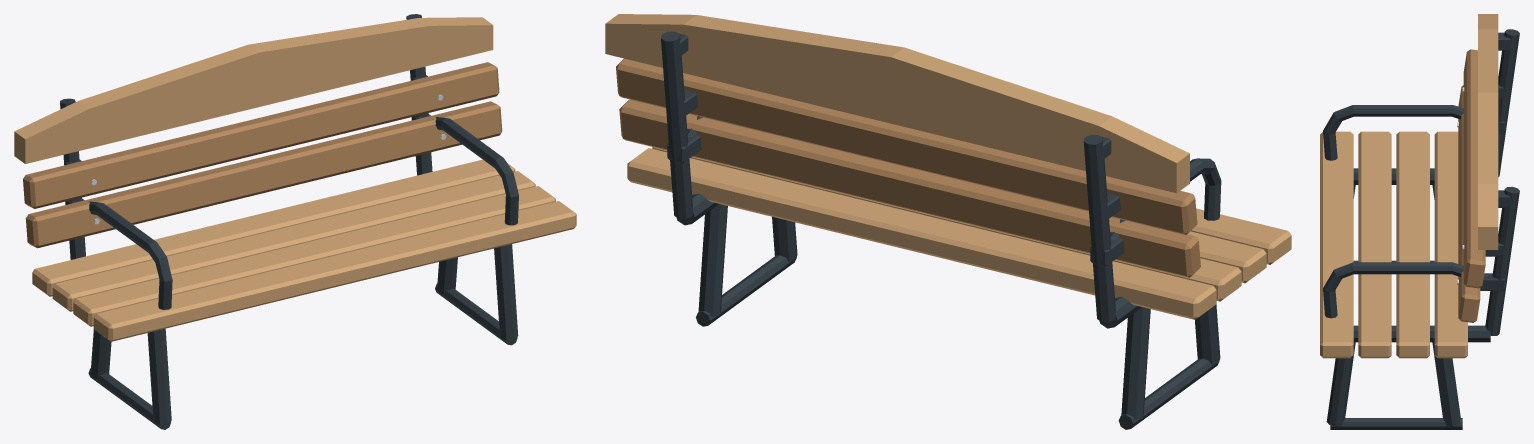
Rendered from Bench_Heritage.glb.
The picture shows the model from 3 angles, left to right: view 1: azimuth 30°, elevation 25°; view 2: azimuth 150°, elevation 25°; view 3: azimuth 270°, elevation 25°; orthographic projection. The views are drawn at different scales.
Parts seen in each view (by area): view 1: Bench_Heritage; view 2: Bench_Heritage; view 3: Bench_Heritage.
Part boxes in pixels (x1=…): Bench_Heritage: x1=14, y1=14, x2=576, y2=429; Bench_Heritage: x1=605, y1=14, x2=1291, y2=429; Bench_Heritage: x1=1320, y1=14, x2=1519, y2=429.
Bounding box in the file's own units: 1.98 × 1.12 × 0.7858.
